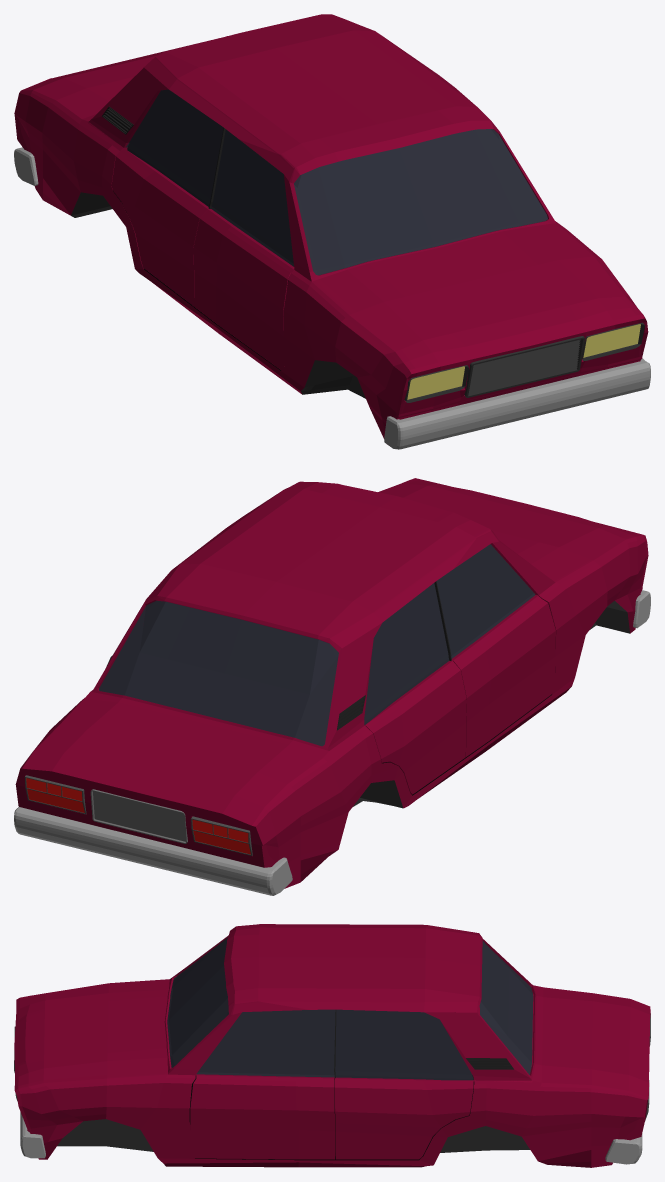
The model's file is Lada11.fbx.
3 renders of one model, top to bottom at view 1: azimuth 30°, elevation 25°; view 2: azimuth 150°, elevation 25°; view 3: azimuth 270°, elevation 25°, orthographic. The views are drawn at different scales.
Visible parts, largest first — view 1: Cube, Cube.004, Cube.003, Cube.001, Cube.002, Cube.007; view 2: Cube, Cube.007, Cube.008, Cube.006, Cube.005; view 3: Cube, Cube.007, Cube.004.
Part boxes in pixels (<box>): Cube: <box>14,14,648,438</box>; Cube.004: <box>384,358,650,449</box>; Cube.003: <box>464,336,585,397</box>; Cube.001: <box>404,365,468,402</box>; Cube.002: <box>582,322,644,360</box>; Cube.007: <box>14,147,38,185</box>; Cube: <box>15,478,648,888</box>; Cube.007: <box>14,807,292,895</box>; Cube.008: <box>90,789,187,843</box>; Cube.006: <box>191,816,252,855</box>; Cube.005: <box>24,775,86,814</box>; Cube: <box>14,924,650,1167</box>; Cube.007: <box>605,1134,642,1164</box>; Cube.004: <box>20,1112,45,1158</box>.
Bounding box in the file's own units: 224 × 158 × 560.
